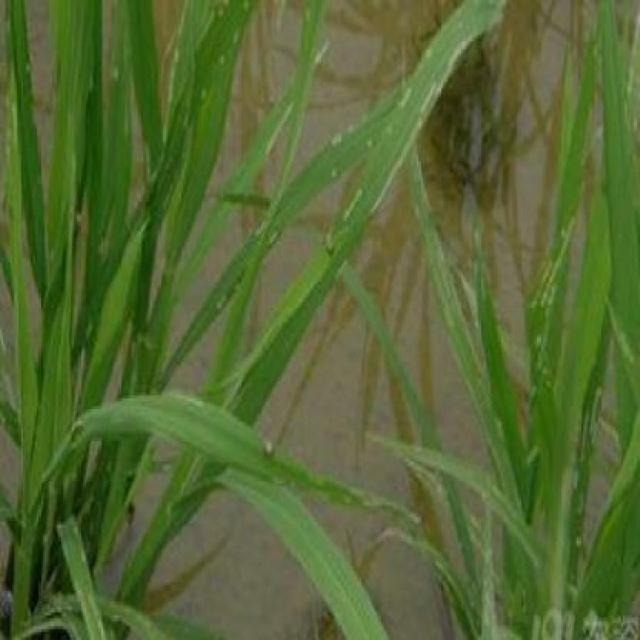rice-bug: (323, 228, 339, 254), (265, 440, 277, 460)
